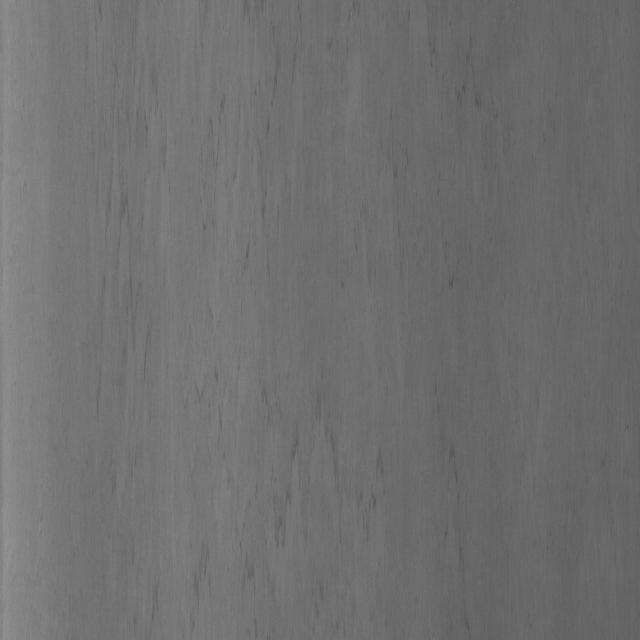inclusion: (130, 25, 384, 630)
